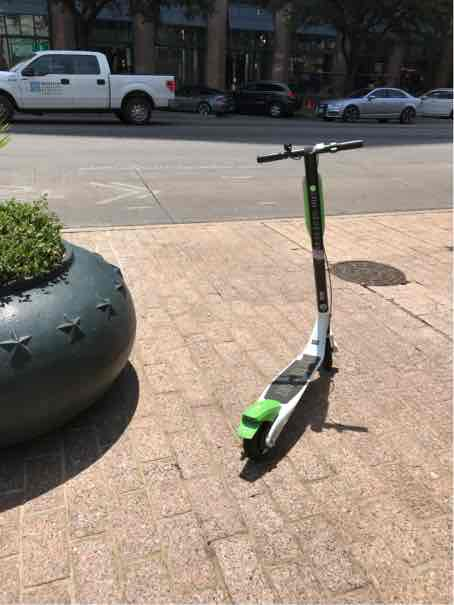scooter: (228, 128, 377, 479)
